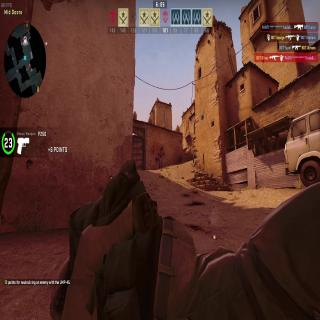CT-Body: (158, 148, 162, 169)
CT-Head: (159, 148, 161, 152)
